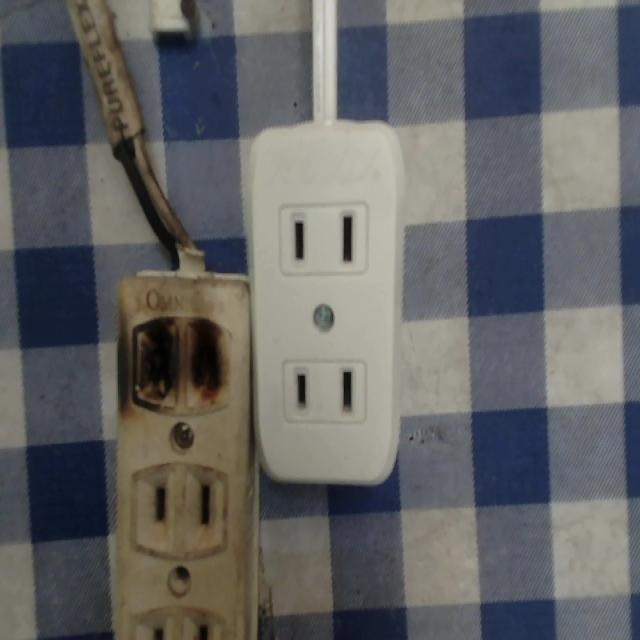-: (128, 303, 234, 417)
